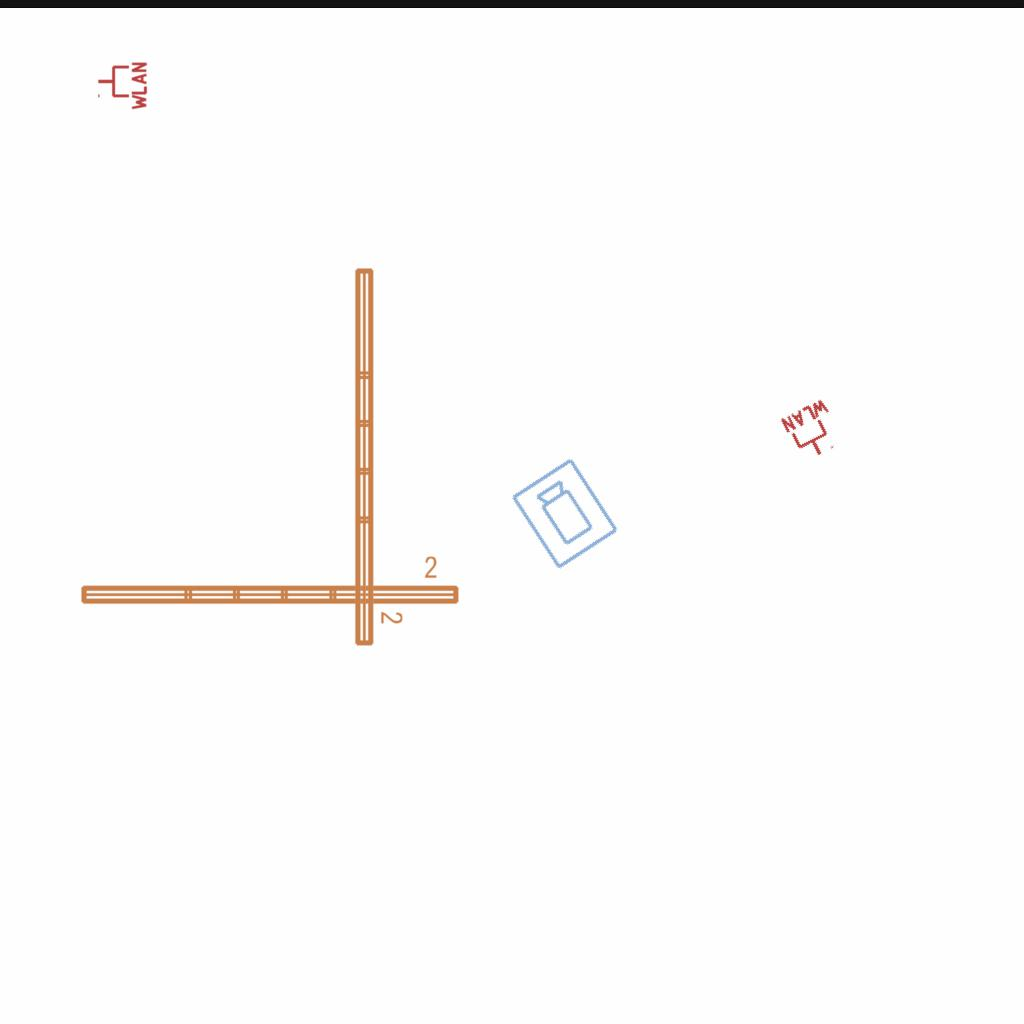Ambulanz_Pendelleuchte_LED: (76, 554, 463, 610), (349, 263, 405, 650)
KFO_Kamera_mit_Festobjektiv: (508, 454, 623, 573)
WLAN: (778, 396, 848, 466), (96, 60, 148, 112)
